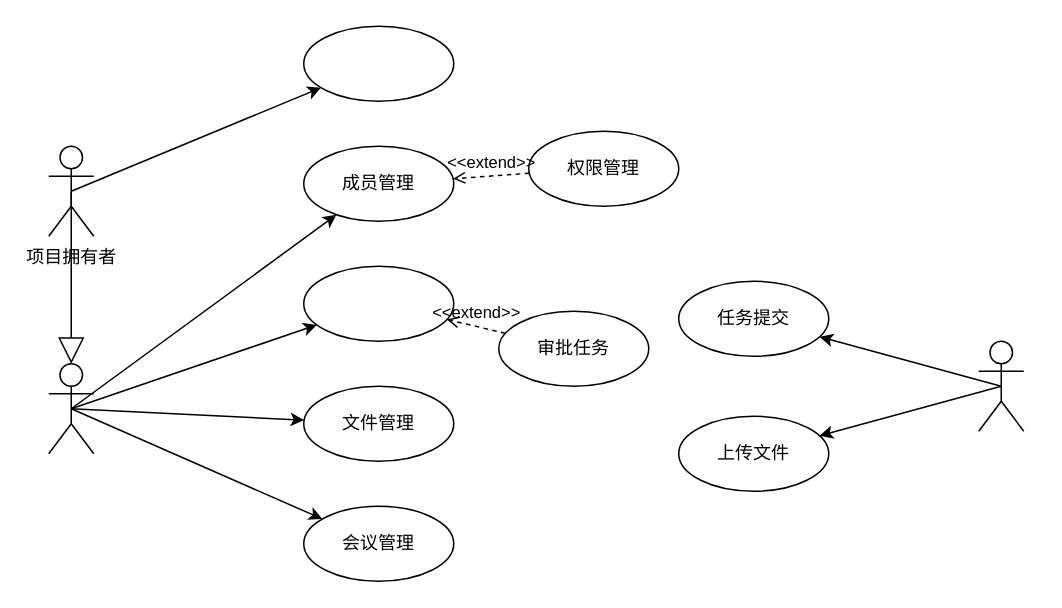
The diagram is 1062 pixels wide and 608 high, and some of its shapes have lost their labels. The shapes that lost their labels are listed below. From the top down, each one's centre as x and y in pixels, then its label:
At (378,63): "创建项目".
At (378,303): "任务发布".
At (1000,385): "项目成员".
At (70,408): "项目管理员".
